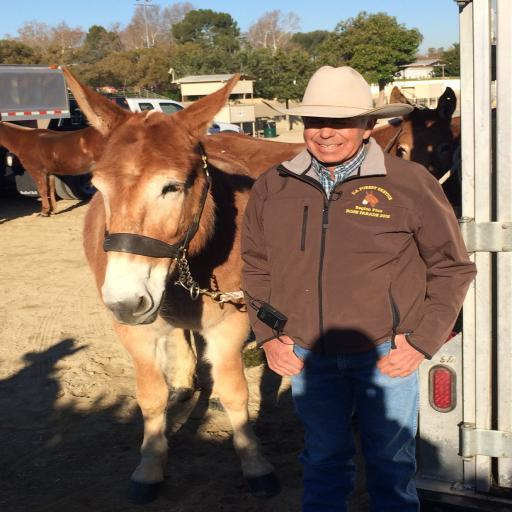horse: (63, 64, 283, 504), (204, 86, 466, 182), (0, 111, 110, 221)
